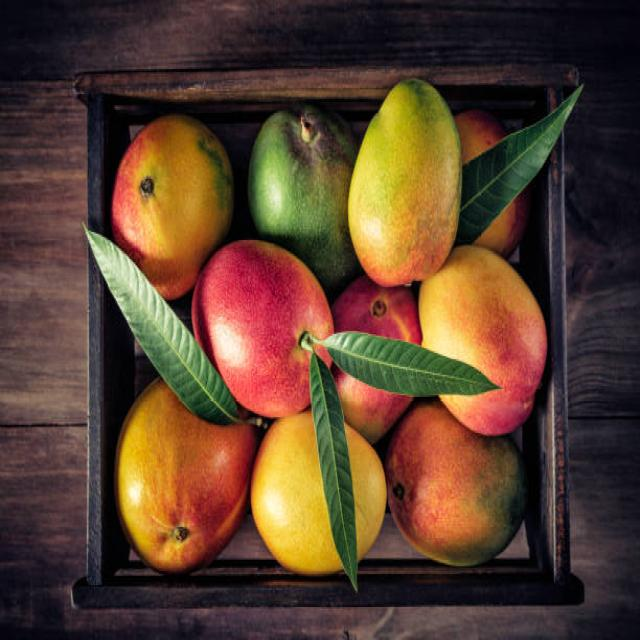mango: (115, 379, 259, 574), (191, 240, 334, 417), (419, 246, 548, 434), (386, 399, 526, 566), (349, 79, 461, 286), (111, 114, 234, 299), (248, 105, 359, 291), (331, 276, 423, 451), (250, 412, 342, 576), (346, 426, 386, 558)
